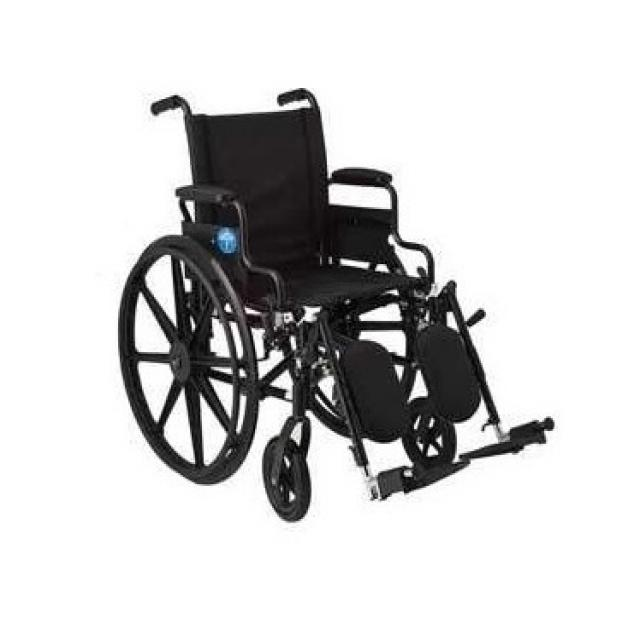wheelchair: (109, 80, 564, 546)
